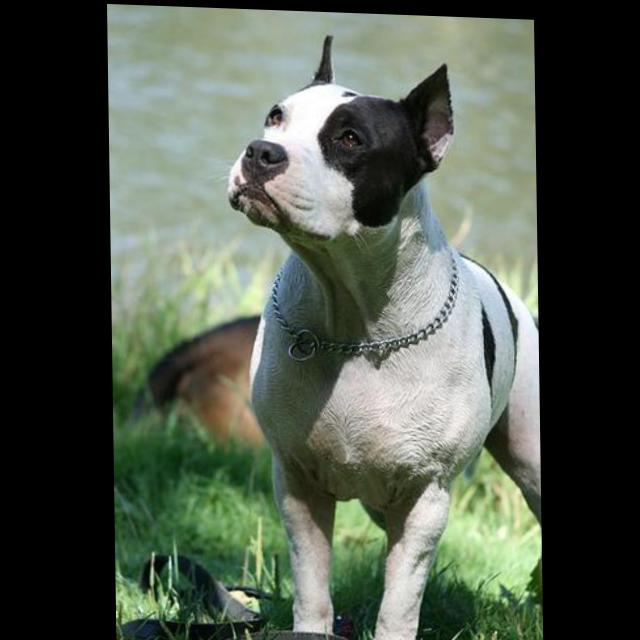amstaff: (138, 25, 542, 640)
